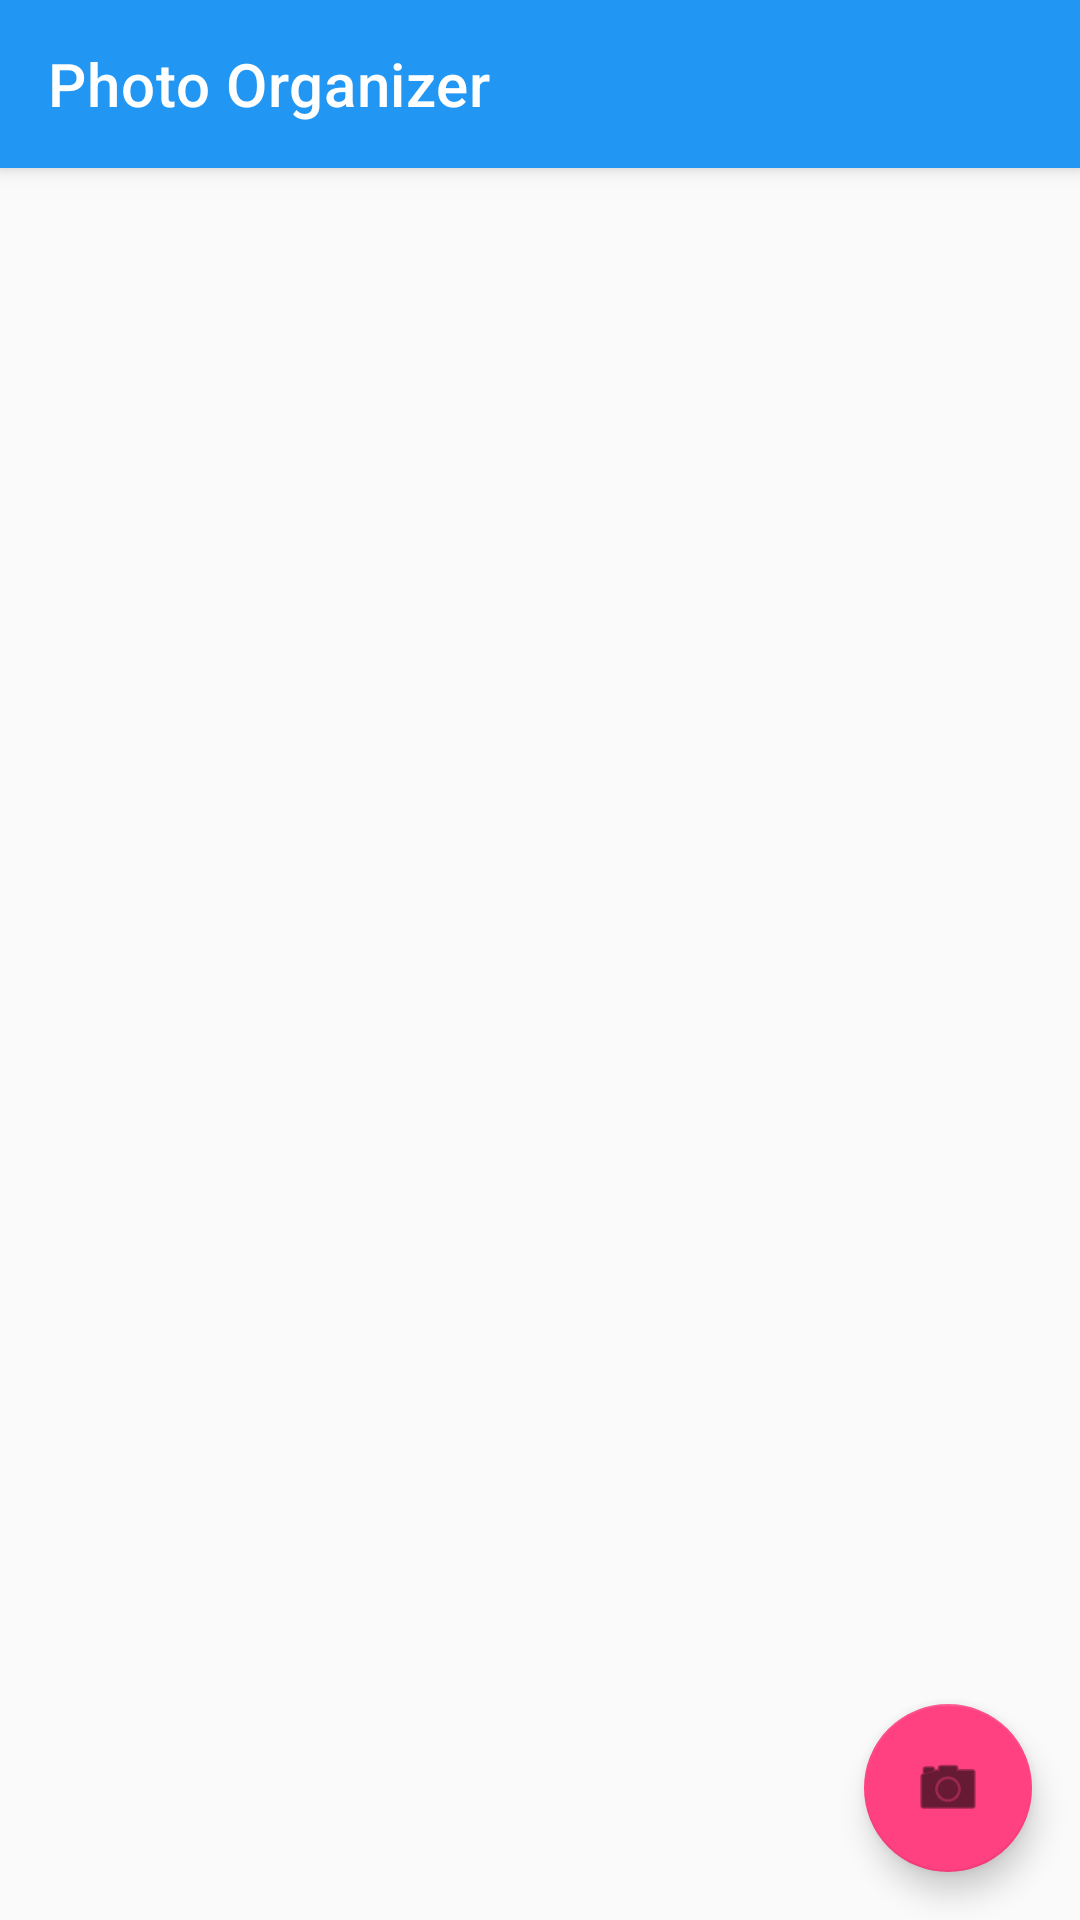

Icon click points for this 1080w x 1920h phone screenshot, format point (x, y):
Scan Images: point (948, 1788)
